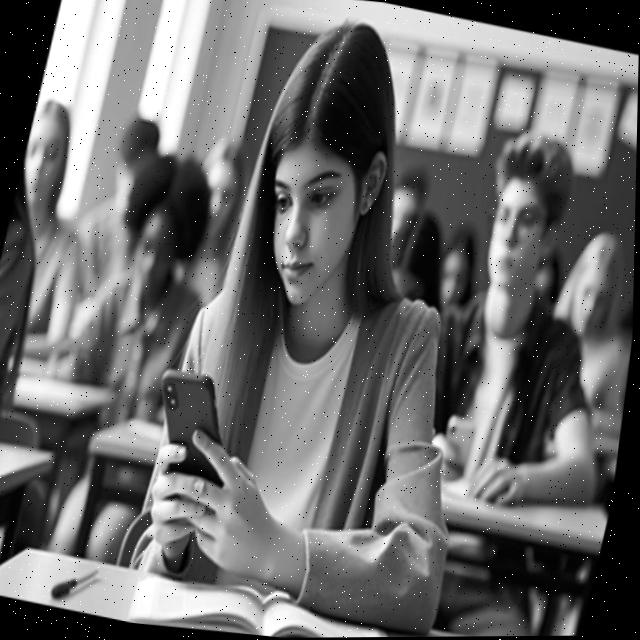phone: (138, 361, 250, 491), (439, 411, 479, 472)
